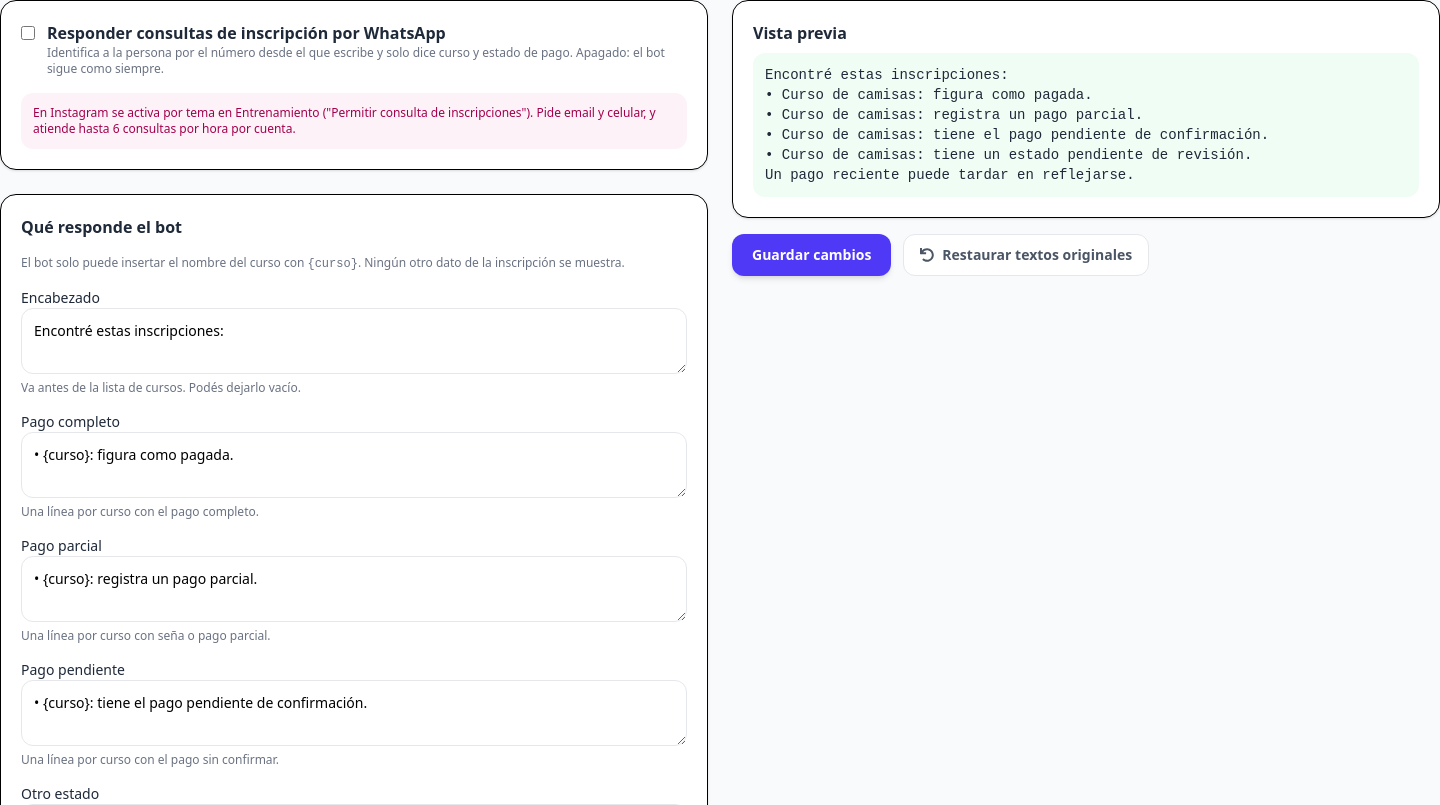
Test case: EnrollmentSettings › restores the original wording and shows a live preview
Replace the text in the text box labelled "Encabezado" with "Hola!" at (354, 341), box [21, 308, 687, 374]
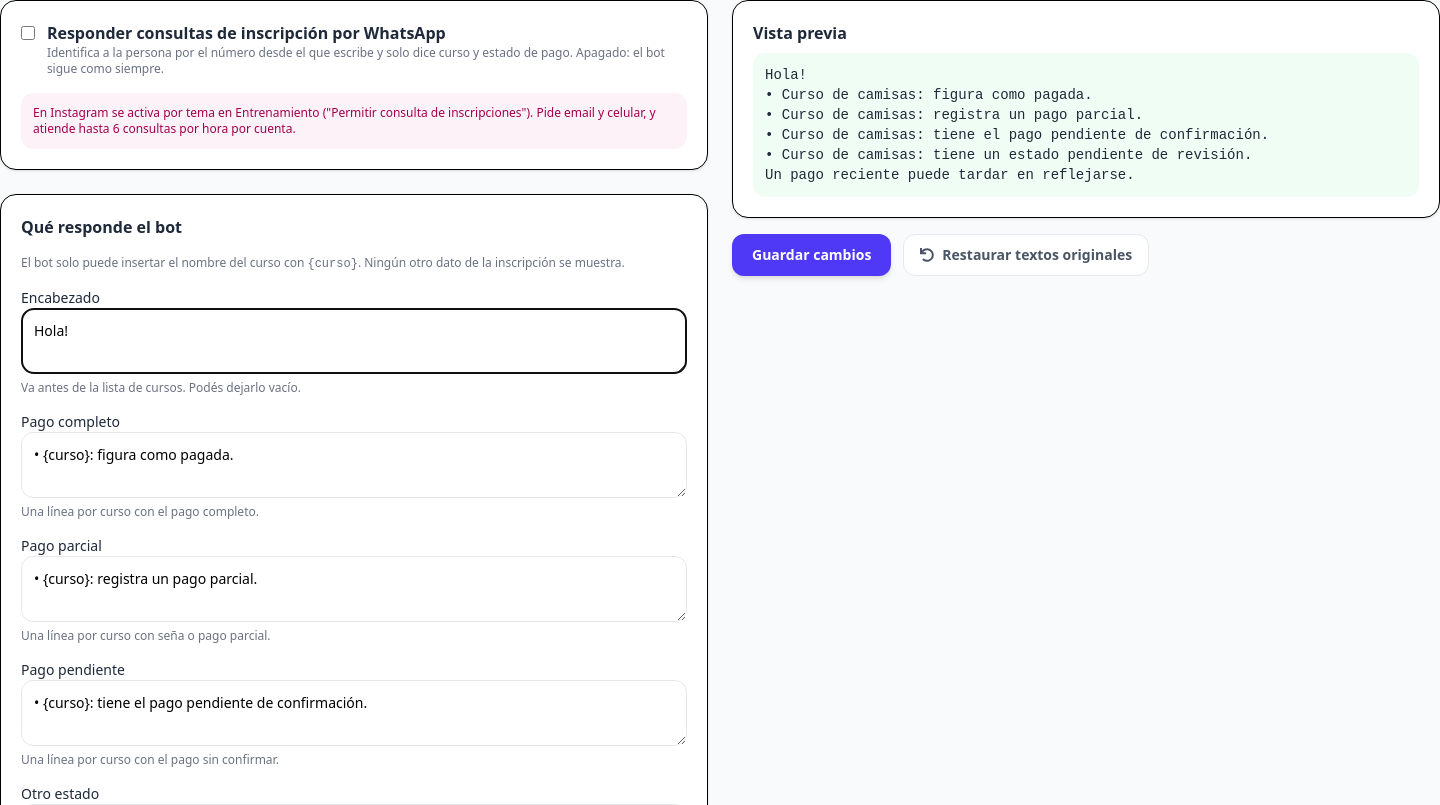
Now the text with test id "enrollment-preview" shows "Hola!", box [765, 67, 1269, 183]
Click the button "Restaurar textos originales".
click(1026, 255)  # box [903, 234, 1149, 276]
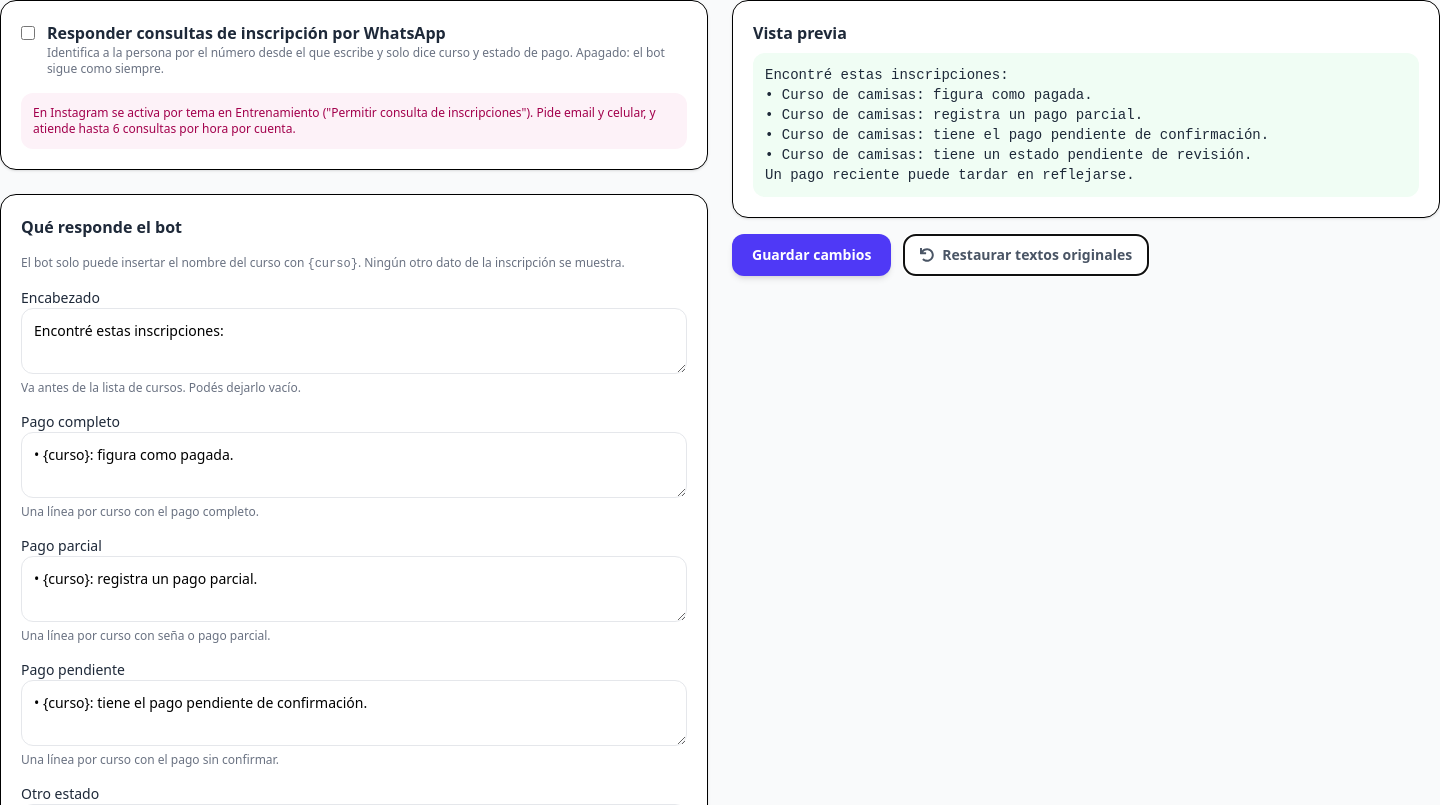
Now the text box labelled "Encabezado" holds "Encontré estas inscripciones:", box [21, 308, 687, 374]
